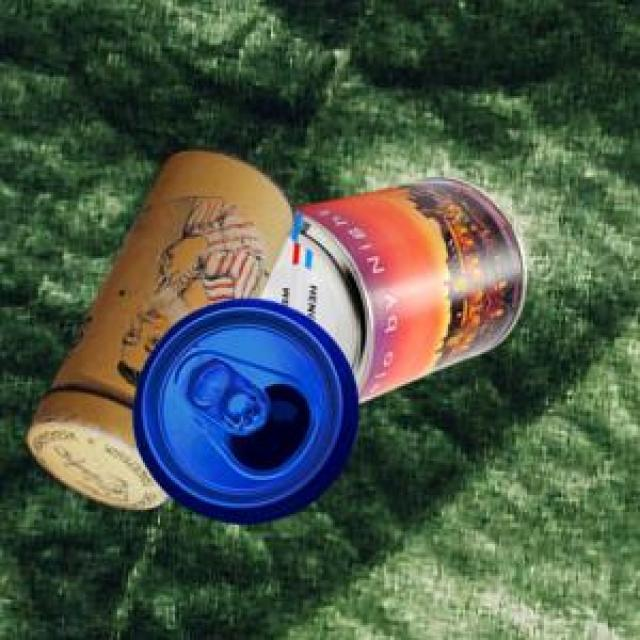Can: (25, 146, 291, 507), (255, 174, 524, 400), (131, 295, 355, 522)
